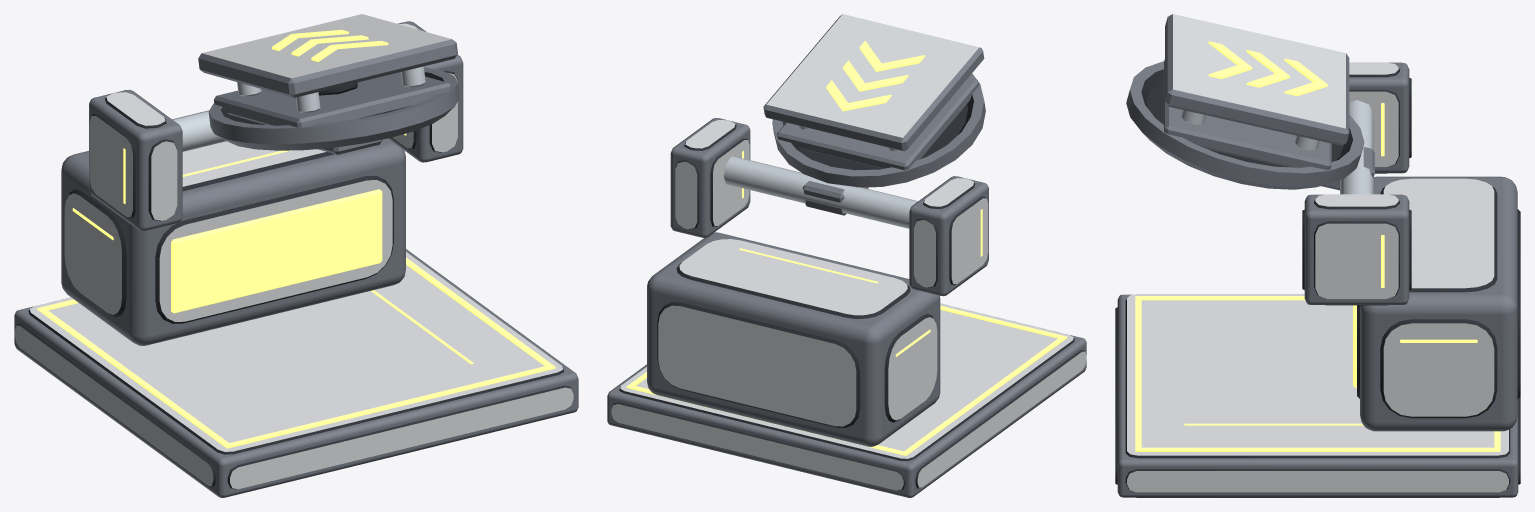
The model's file is R4X_KnockbackTrapDeployer.fbx.
3 views of the same model, side by side, from view 1: azimuth 30°, elevation 25°; view 2: azimuth 150°, elevation 25°; view 3: azimuth 270°, elevation 25° (orthographic). The views are drawn at different scales.
Parts seen in each view (by area): view 1: R4X_KnockbackTrapDeployer_Body, R4X_KnockbackTrapDeployer_Payload; view 2: R4X_KnockbackTrapDeployer_Body, R4X_KnockbackTrapDeployer_Payload; view 3: R4X_KnockbackTrapDeployer_Body, R4X_KnockbackTrapDeployer_Payload.
Part boxes in pixels (<box>): R4X_KnockbackTrapDeployer_Body: <box>14,21,578,497</box>; R4X_KnockbackTrapDeployer_Payload: <box>198,14,457,127</box>; R4X_KnockbackTrapDeployer_Body: <box>607,73,1086,497</box>; R4X_KnockbackTrapDeployer_Payload: <box>763,14,984,170</box>; R4X_KnockbackTrapDeployer_Body: <box>1115,61,1520,497</box>; R4X_KnockbackTrapDeployer_Payload: <box>1163,14,1349,170</box>.
Size of the model in its own units: 0.52 by 0.5171 by 0.52.
